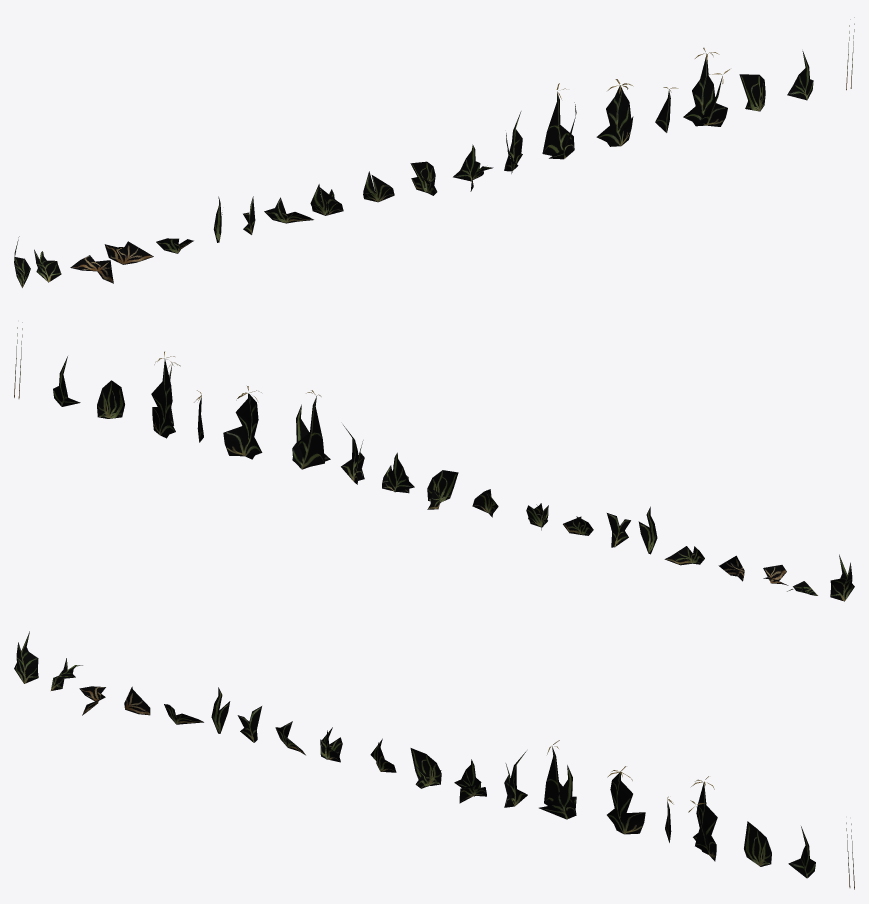
File: grass-bermuda-01.glb
The picture shows the model from 3 angles, top to bottom: view 1: azimuth 30°, elevation 25°; view 2: azimuth 150°, elevation 25°; view 3: azimuth 330°, elevation 25°; orthographic projection.
Parts seen in each view (by area): view 1: grass_bermuda_01_dead_a; view 2: grass_bermuda_01_dead_a; view 3: grass_bermuda_01_dead_a.
Boxes of the visible parts, x1,y1,x2,y2 form: grass_bermuda_01_dead_a: (14,17,854,287); grass_bermuda_01_dead_a: (14,322,854,601); grass_bermuda_01_dead_a: (14,631,854,889).
Size of the model in its own units: 1.69 by 0.1582 by 0.1378.
Materials: 1 (1 with a texture image).
